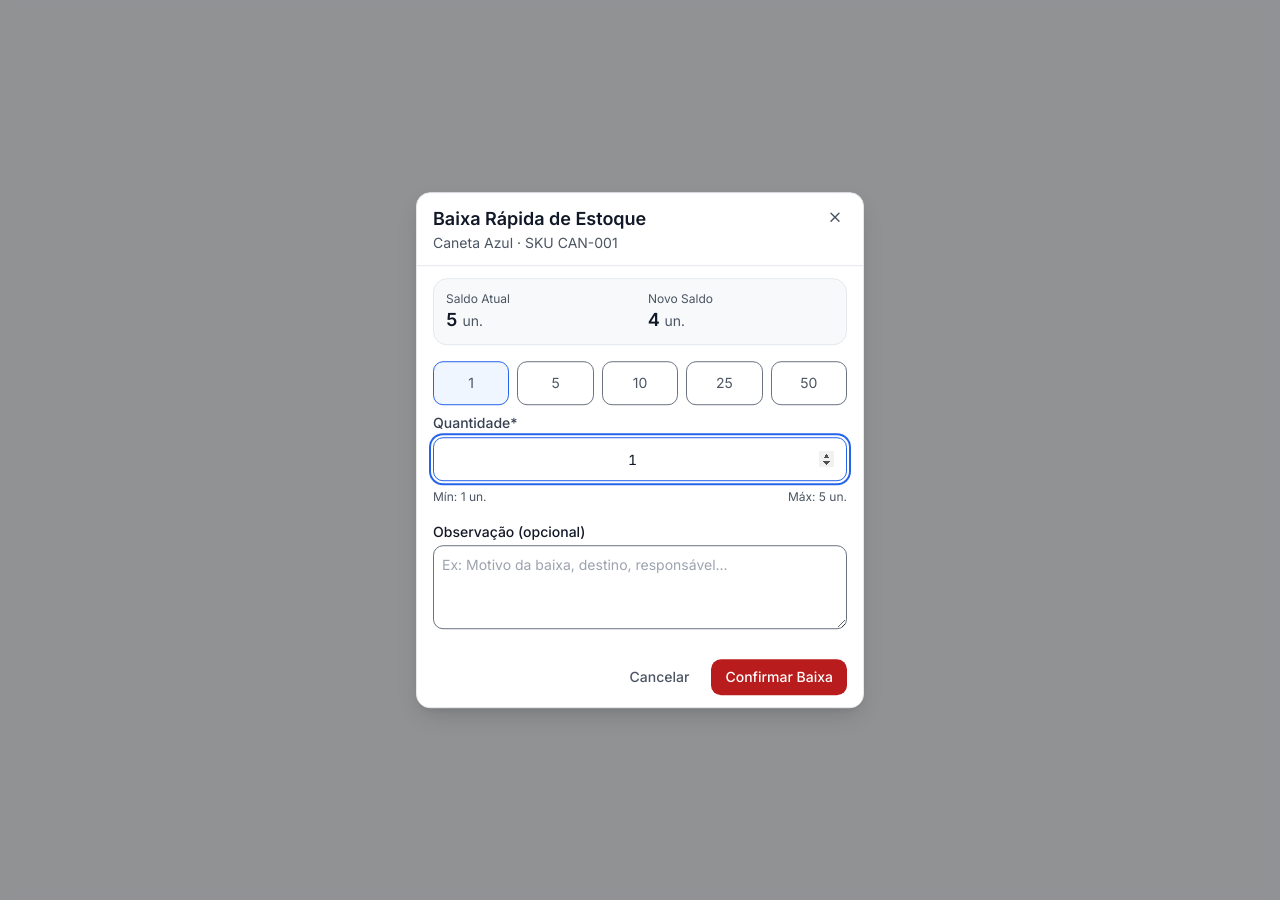
Scenario: QuickOutModal — erro da API chega ao usuário (F-07 / UF-26) › cai no texto genérico quando o erro não é da API (não vaza detalhe interno)
The image size is (1280, 900).
Click the button "Confirmar Baixa" at (779, 677), box [711,659,847,695]
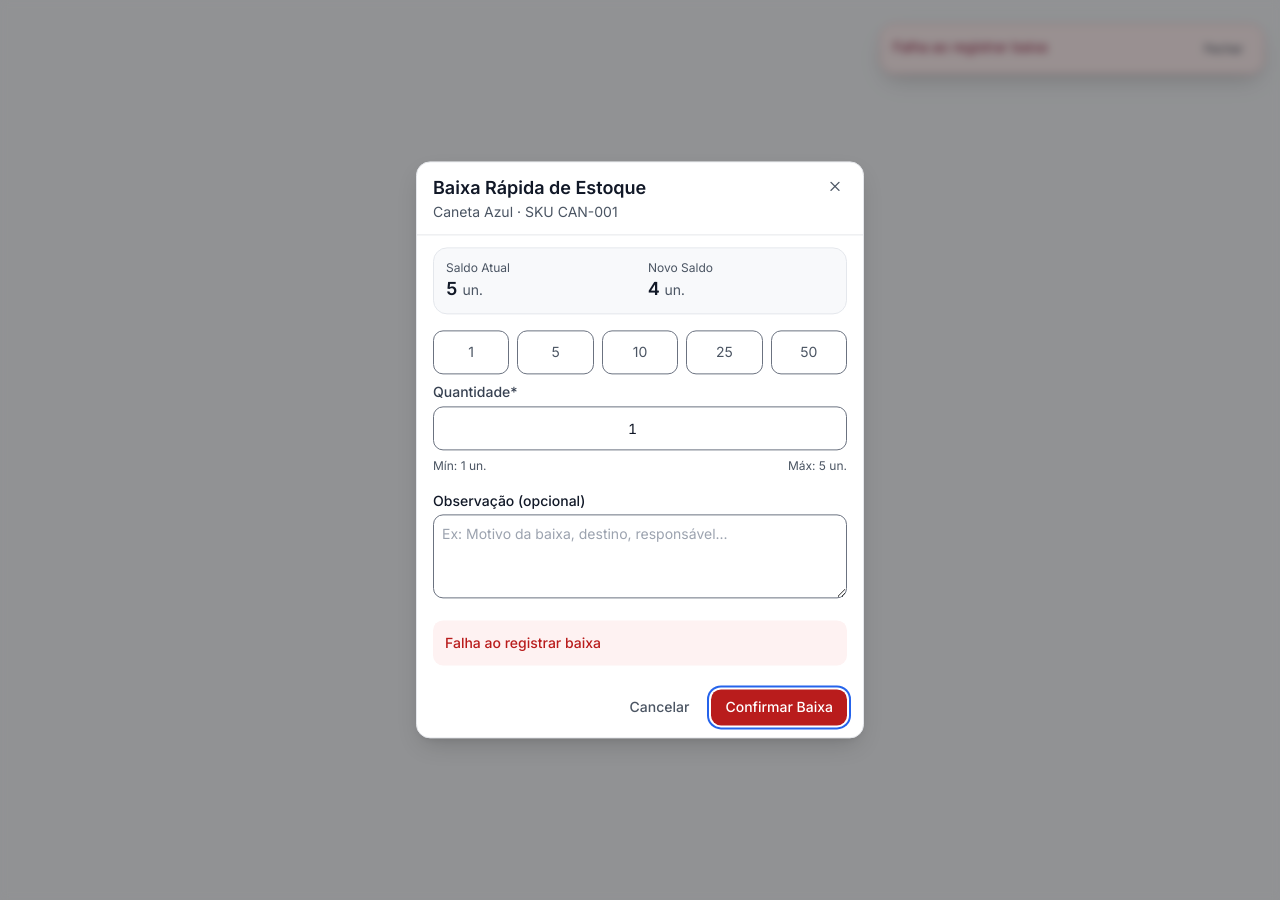
Result: the text "Falha ao registrar baixa" is shown at [893,38,1047,55]
